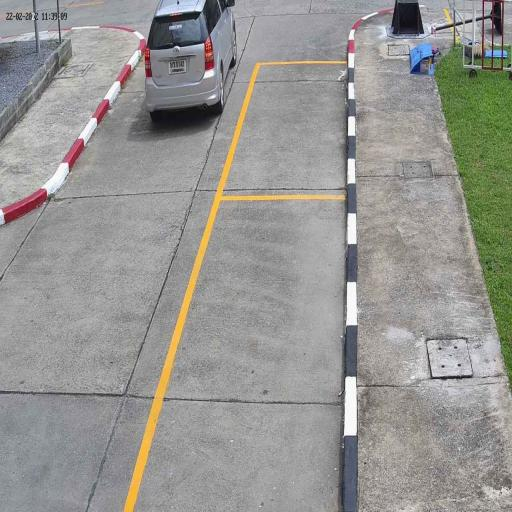car: (144, 0, 238, 120)
